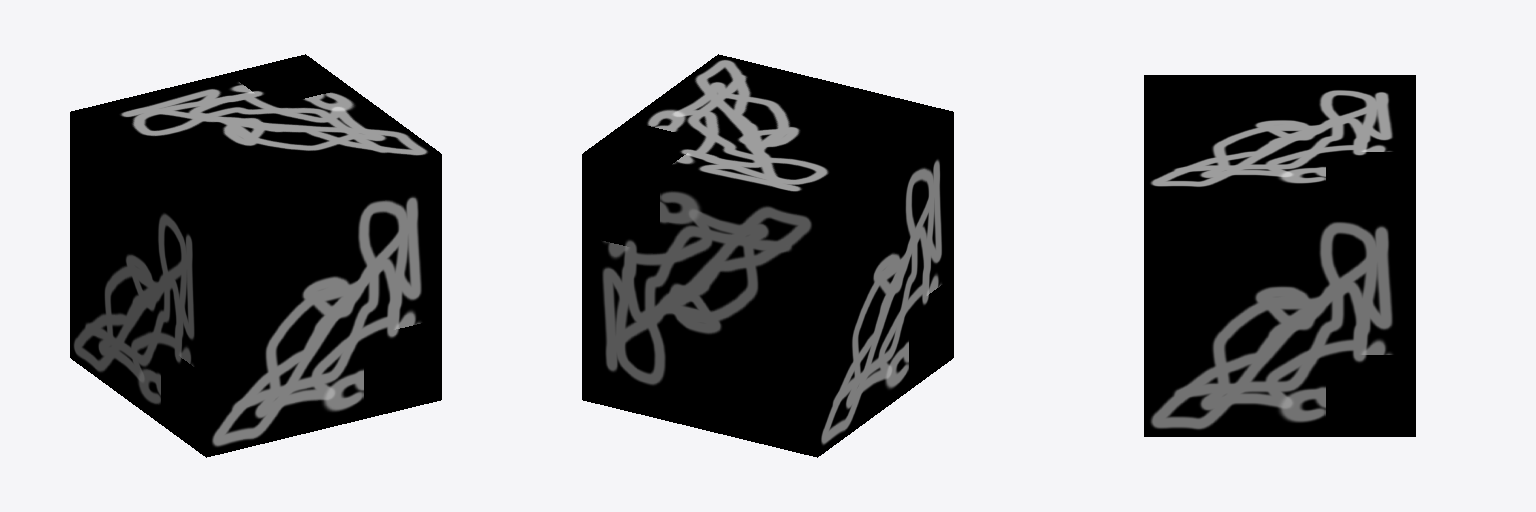
3 views of the same model, side by side, from view 1: azimuth 30°, elevation 25°; view 2: azimuth 150°, elevation 25°; view 3: azimuth 270°, elevation 25° (orthographic).
Parts seen in each view (by area): view 1: Cube; view 2: Cube; view 3: Cube.
Part boxes in pixels (left/top/right/bottom): Cube: left=70, top=54, right=441, bottom=457; Cube: left=582, top=54, right=953, bottom=457; Cube: left=1144, top=75, right=1415, bottom=436.
Size of the model in its own units: 2 by 2 by 2.
Materials: 1 (1 with a texture image).